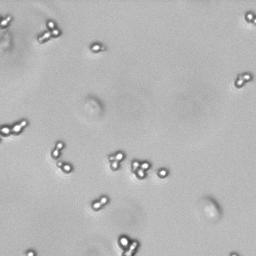budding: (1, 118, 32, 139), (108, 151, 124, 170), (91, 195, 109, 211), (1, 11, 14, 31), (50, 141, 65, 158), (235, 73, 251, 88), (56, 161, 72, 173), (90, 42, 104, 53)
cluster: (37, 20, 62, 42), (131, 159, 152, 179)
individual: (117, 232, 129, 248), (157, 167, 168, 178)
